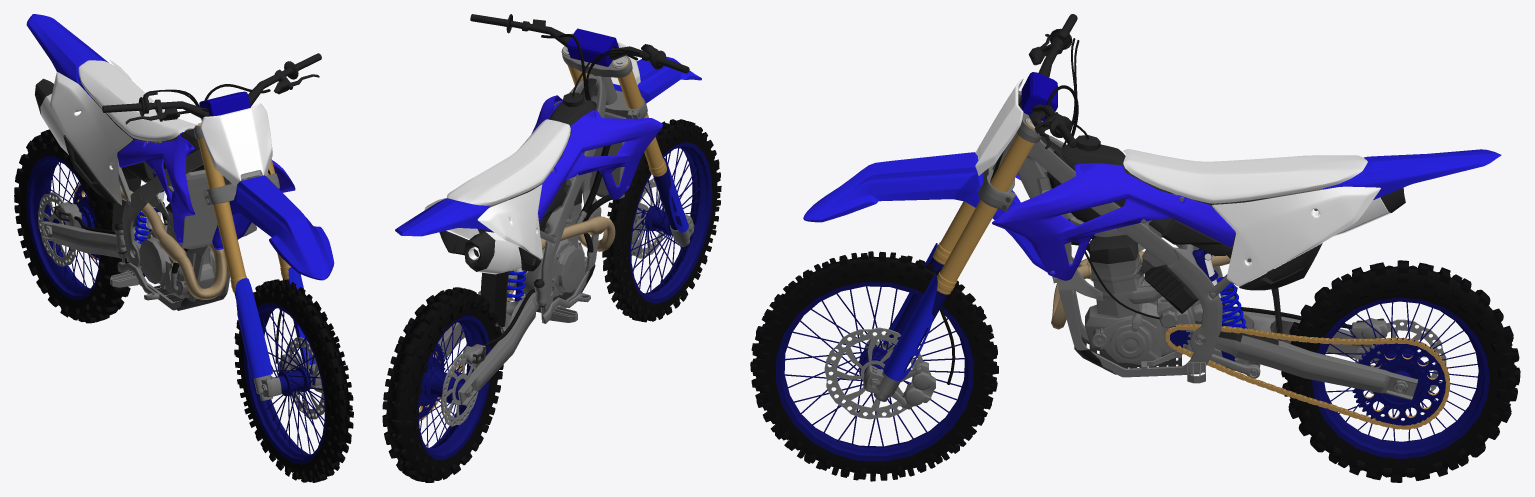
The model's file is yamaha.glb.
The picture shows the model from 3 angles, left to right: view 1: azimuth 30°, elevation 25°; view 2: azimuth 150°, elevation 25°; view 3: azimuth 270°, elevation 25°; orthographic projection. The views are drawn at different scales.
Parts seen in each view (by area): view 1: FUEL_CAP_002_NUMBERPLATES_0, FUEL_CAP_001_FENDERS_0, FRONT_TIRE_TIRE_0, REAR_TIRE_TIRE_0, REAR_RIM_001_RIMS_0, REAR_RIM_RIMS_0, FUEL_CAP_005_SEAT_0, FUEL_CAP_003_SHROUDS_0, FRAME_METAL_0, FORK_LOWERS_001_FORKGUARD_0, FORK_UPPERS_FORK_0, BezierCurve_EXHAUST_SHINE_0 (+21 smaller); view 2: REAR_TIRE_TIRE_0, FRONT_TIRE_TIRE_0, FUEL_CAP_003_SHROUDS_0, REAR_RIM_001_RIMS_0, REAR_RIM_RIMS_0, FUEL_CAP_005_SEAT_0, FUEL_CAP_001_FENDERS_0, FUEL_CAP_002_NUMBERPLATES_0, FRAME_METAL_0, SWINGARM_METAL_0, FORK_UPPERS_FORK_0, FORK_UPPERS_001_METAL_0 (+22 smaller); view 3: REAR_TIRE_TIRE_0, FRONT_TIRE_TIRE_0, FUEL_CAP_001_FENDERS_0, FUEL_CAP_003_SHROUDS_0, REAR_RIM_RIMS_0, FUEL_CAP_002_NUMBERPLATES_0, FRAME_METAL_0, REAR_RIM_001_RIMS_0, FUEL_CAP_005_SEAT_0, MOTOR_METAL_0, FORK_UPPERS_FORK_0, Circle_005_FORK_0 (+19 smaller).
Boxes of the visible parts, <box> form: FUEL_CAP_002_NUMBERPLATES_0: <box>50,59,272,204</box>; FUEL_CAP_001_FENDERS_0: <box>26,14,334,280</box>; FRONT_TIRE_TIRE_0: <box>234,279,353,482</box>; REAR_TIRE_TIRE_0: <box>14,129,130,323</box>; REAR_RIM_001_RIMS_0: <box>243,302,326,464</box>; REAR_RIM_RIMS_0: <box>26,156,100,300</box>; FUEL_CAP_005_SEAT_0: <box>78,60,196,141</box>; FUEL_CAP_003_SHROUDS_0: <box>117,132,295,242</box>; FRAME_METAL_0: <box>122,149,230,310</box>; FORK_LOWERS_001_FORKGUARD_0: <box>235,267,315,378</box>; FORK_UPPERS_FORK_0: <box>194,125,290,292</box>; BezierCurve_EXHAUST_SHINE_0: <box>120,185,227,299</box>; REAR_TIRE_TIRE_0: <box>382,287,503,482</box>; FRONT_TIRE_TIRE_0: <box>602,119,721,322</box>; FUEL_CAP_003_SHROUDS_0: <box>531,95,663,223</box>; REAR_RIM_001_RIMS_0: <box>629,142,712,303</box>; REAR_RIM_RIMS_0: <box>417,316,490,459</box>; FUEL_CAP_005_SEAT_0: <box>447,119,570,205</box>; FUEL_CAP_001_FENDERS_0: <box>395,56,701,236</box>; FUEL_CAP_002_NUMBERPLATES_0: <box>424,33,640,259</box>; FRAME_METAL_0: <box>507,74,607,311</box>; SWINGARM_METAL_0: <box>433,275,538,405</box>; FORK_UPPERS_FORK_0: <box>562,46,666,176</box>; FORK_UPPERS_001_METAL_0: <box>561,46,647,118</box>; REAR_TIRE_TIRE_0: <box>1281,260,1520,482</box>; FRONT_TIRE_TIRE_0: <box>750,251,998,481</box>; FUEL_CAP_001_FENDERS_0: <box>803,149,1501,271</box>; FUEL_CAP_003_SHROUDS_0: <box>992,153,1235,280</box>; REAR_RIM_RIMS_0: <box>1311,297,1489,458</box>; FUEL_CAP_002_NUMBERPLATES_0: <box>975,79,1380,286</box>; FRAME_METAL_0: <box>1017,135,1222,377</box>; REAR_RIM_001_RIMS_0: <box>775,282,973,461</box>; FUEL_CAP_005_SEAT_0: <box>1123,149,1367,203</box>; MOTOR_METAL_0: <box>1085,244,1195,356</box>; FORK_UPPERS_FORK_0: <box>933,119,1034,294</box>; Circle_005_FORK_0: <box>1165,324,1450,429</box>.
Bounding box in the file's own units: 0.9714 × 1.46 × 2.48.
